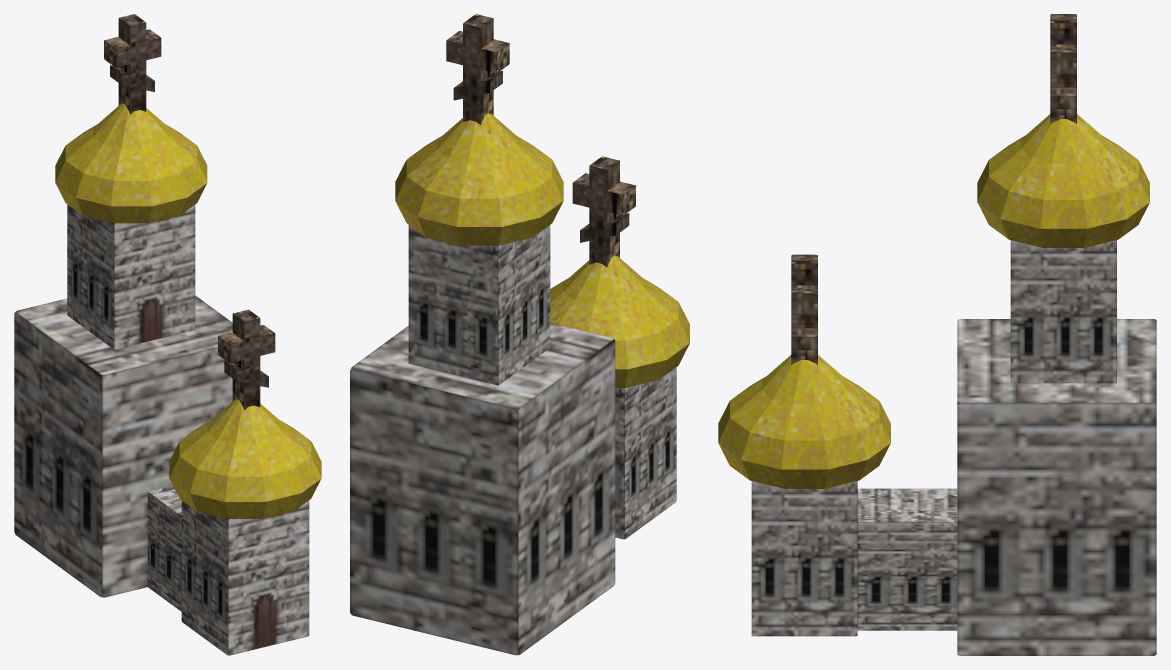
The model's file is Church.fbx.
3 renders of one model, left to right at view 1: azimuth 30°, elevation 25°; view 2: azimuth 150°, elevation 25°; view 3: azimuth 270°, elevation 25°, orthographic. The views are drawn at different scales.
Parts seen in each view (by area): view 1: cuboid_2, cuboid, cuboid_3, sphere_1, sphere, cuboid_1, krest_1, krest; view 2: cuboid_2, cuboid_3, sphere_1, sphere, cuboid, krest, krest_1; view 3: cuboid_2, sphere, sphere_1, cuboid, cuboid_3, cuboid_1, krest, krest_1.
Boxes of the visible parts, left/top/right/bottom form: cuboid_2: left=14, top=295, right=232, bottom=597; cuboid: left=181, top=500, right=309, bottom=655; cuboid_3: left=67, top=204, right=195, bottom=349; sphere_1: left=55, top=103, right=207, bottom=223; sphere: left=169, top=399, right=321, bottom=518; cuboid_1: left=147, top=485, right=181, bottom=611; krest_1: left=104, top=14, right=161, bottom=114; krest: left=218, top=309, right=275, bottom=409; cuboid_2: left=350, top=322, right=615, bottom=655; cuboid_3: left=408, top=225, right=550, bottom=385; sphere_1: left=395, top=113, right=563, bottom=245; sphere: left=550, top=255, right=689, bottom=387; cuboid: left=615, top=367, right=676, bottom=539; krest: left=572, top=156, right=635, bottom=267; krest_1: left=446, top=14, right=509, bottom=125; cuboid_2: left=957, top=319, right=1156, bottom=655; sphere: left=718, top=355, right=890, bottom=488; sphere_1: left=977, top=114, right=1149, bottom=247; cuboid: left=751, top=481, right=857, bottom=636; cuboid_3: left=1010, top=240, right=1116, bottom=383; cuboid_1: left=857, top=488, right=957, bottom=630; krest: left=791, top=254, right=817, bottom=364; krest_1: left=1050, top=14, right=1076, bottom=123.
Size of the model in its own units: 188 by 619 by 412.
Materials: 2 (2 with a texture image).
